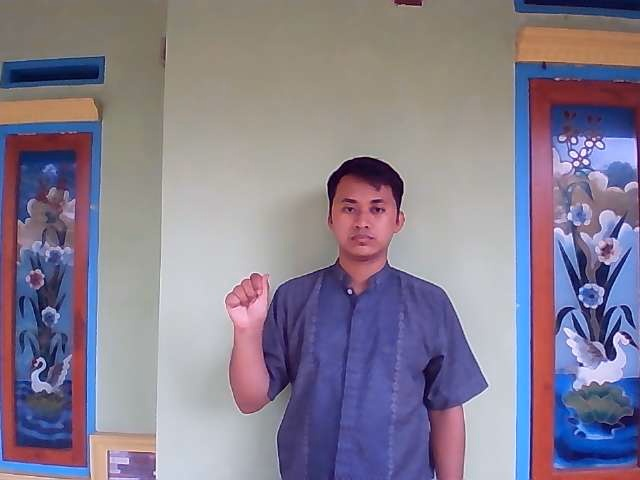A: (219, 270, 277, 340)
